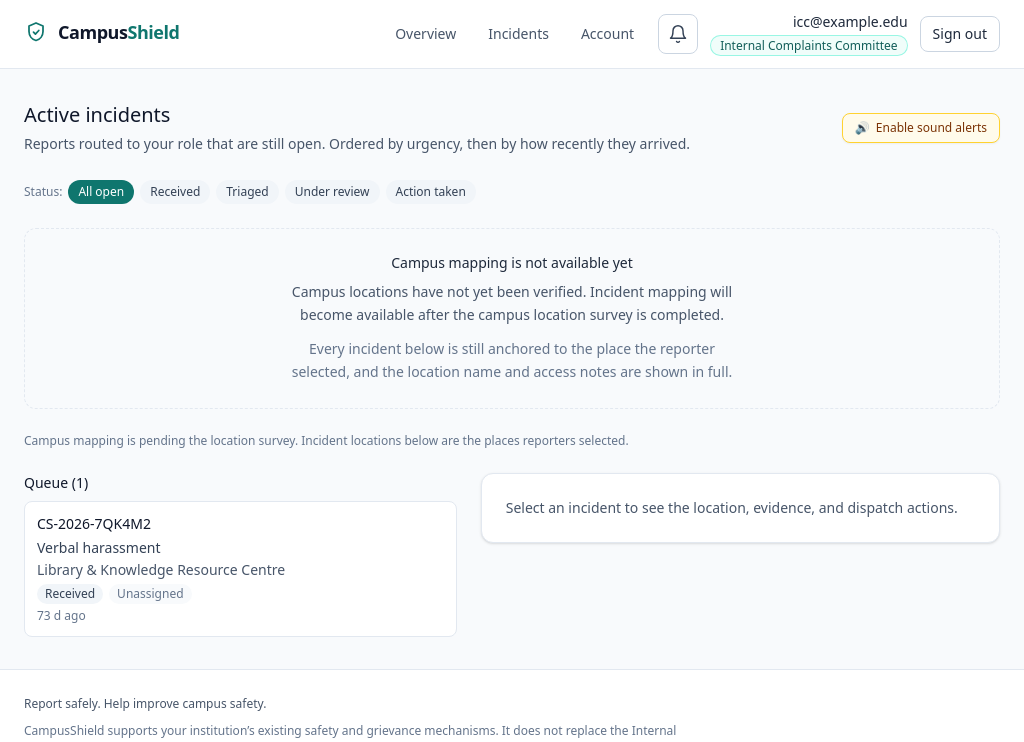
Test: IncidentsPage — the case lifecycle panel › surfaces a rejected transition instead of silently doing nothing
What coordinates should you click on to do the following:
click the button "CS-2026-7QK4M2"
I would click on:
 (240, 569)
Its box is top-left (24, 501), bottom-right (457, 637).
(page scrolled)
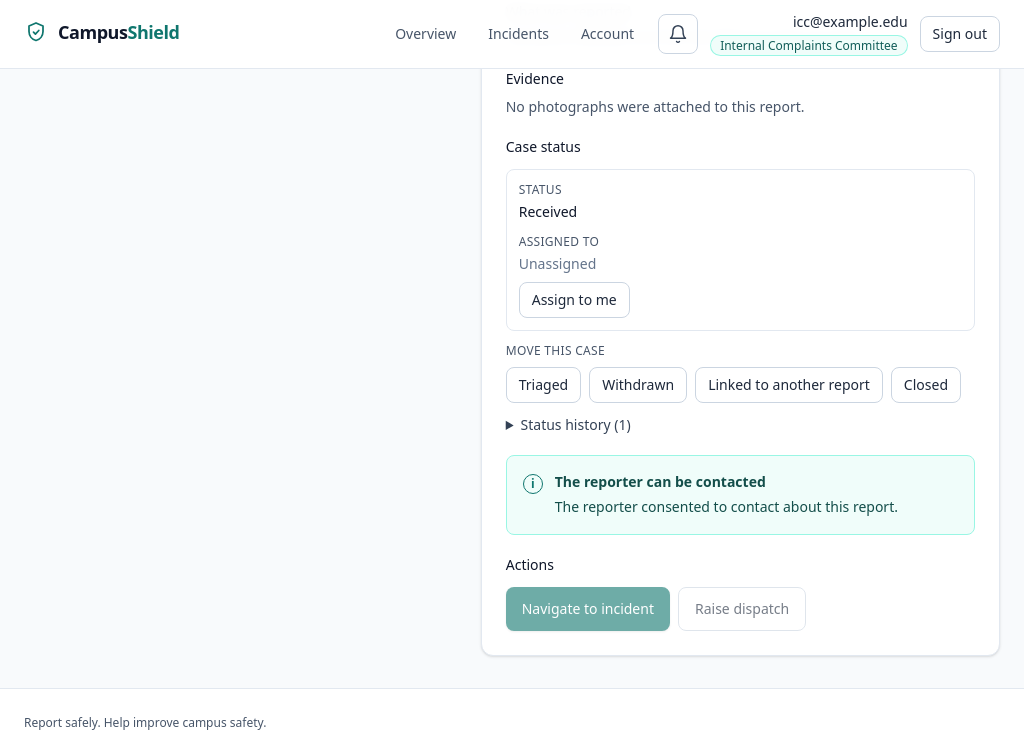
What coordinates should you click on to do the following:
click the button "Triaged"
I would click on:
 (543, 384)
Its box is top-left (506, 366), bottom-right (581, 402).
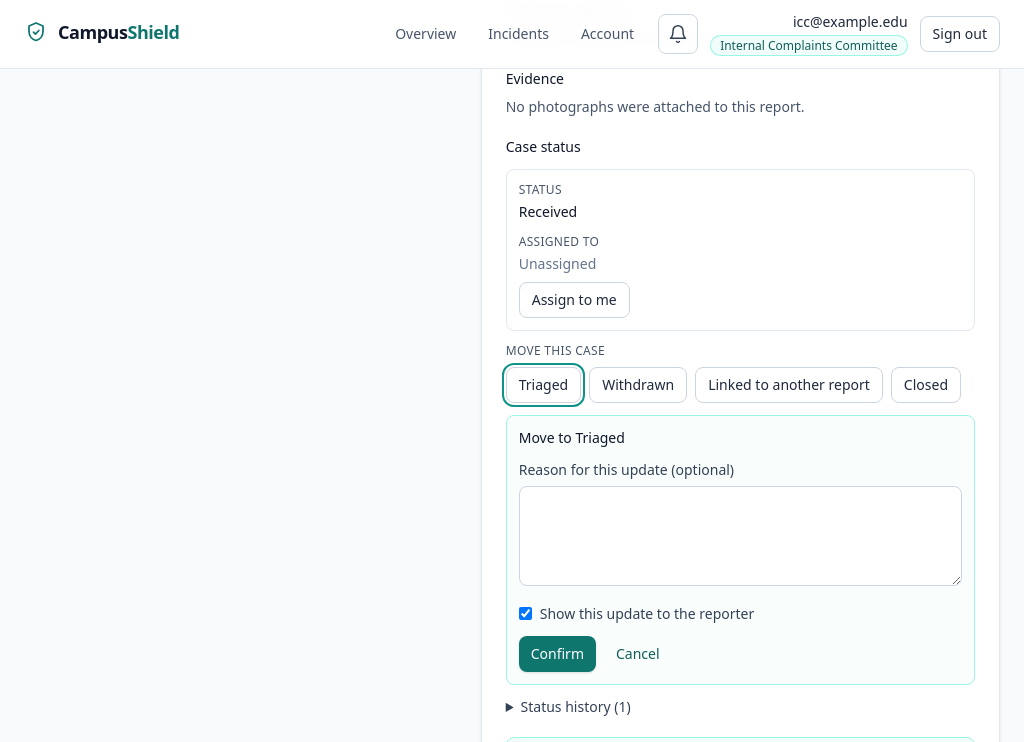
What coordinates should you click on to do the following:
click the button "Confirm"
I would click on:
 (557, 654)
Its box is top-left (519, 636), bottom-right (596, 672).
(page scrolled)
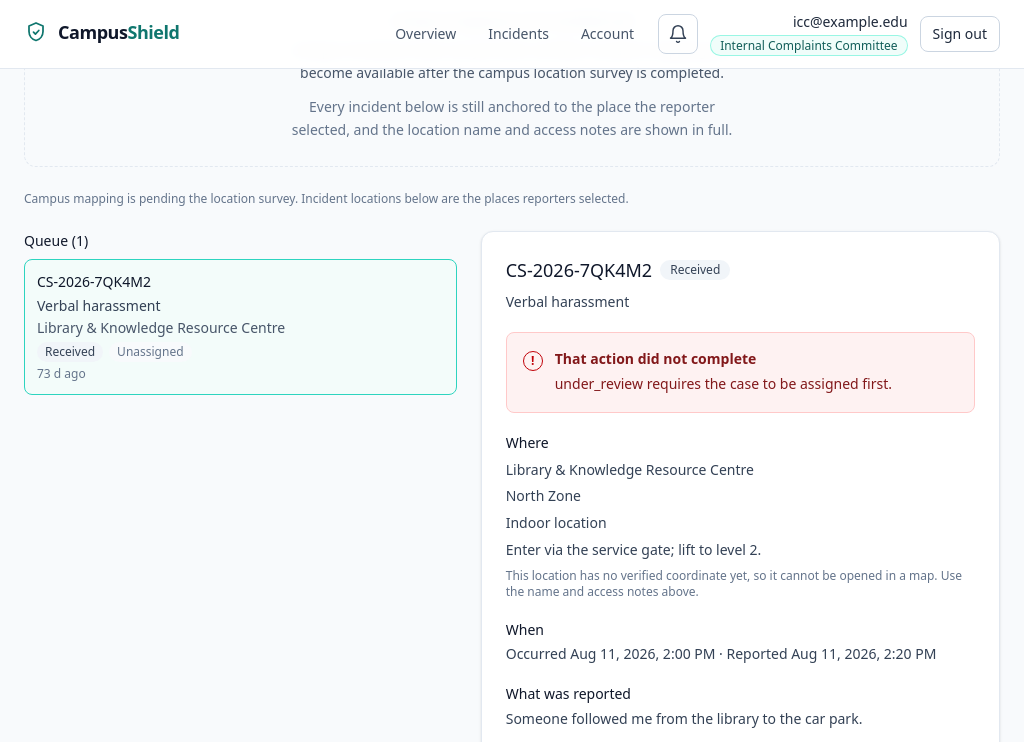
Now the text "under_review requires the case to be assigned first." is shown, box top-left (555, 374), bottom-right (892, 393)
